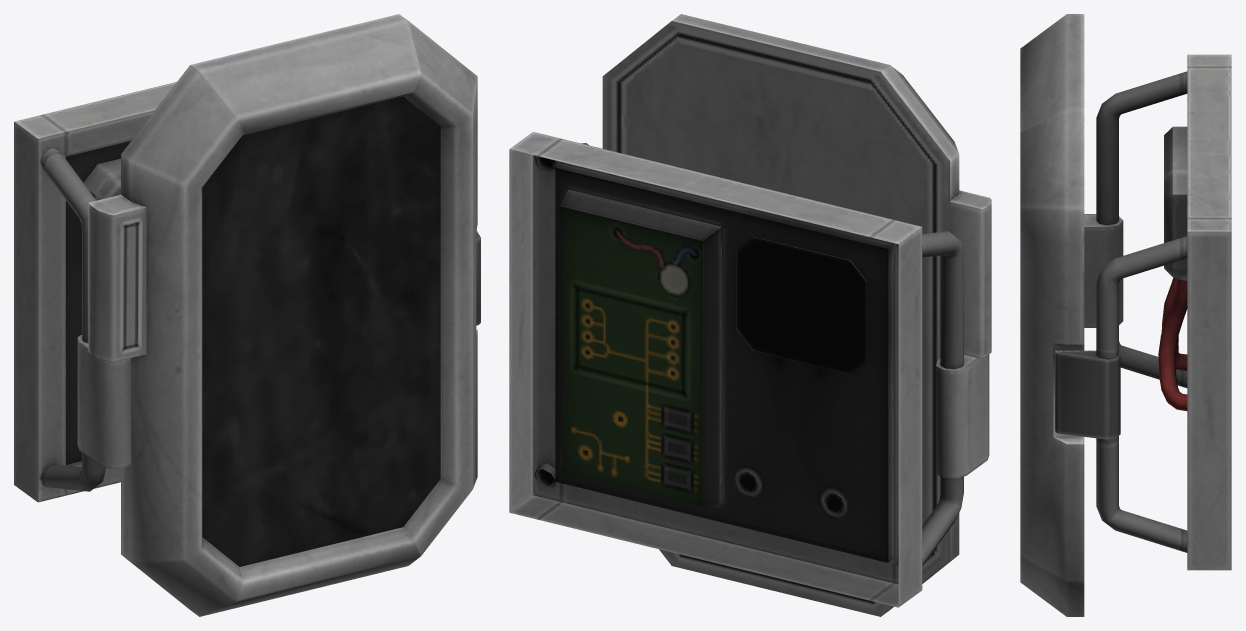
Rendered from theta_panel.dae.
3 views of the same model, side by side, from view 1: azimuth 30°, elevation 25°; view 2: azimuth 150°, elevation 25°; view 3: azimuth 270°, elevation 25° (orthographic). The views are drawn at different scales.
Visible parts, largest first — view 1: panel_rigid, panel_base; view 2: panel_base, panel_rigid; view 3: panel_base, panel_rigid.
Boxes of the visible parts, x1,y1,x2,y2 form: panel_rigid: (88, 14, 477, 616); panel_base: (14, 82, 480, 502); panel_base: (509, 132, 989, 607); panel_rigid: (602, 14, 991, 616); panel_base: (1055, 54, 1231, 570); panel_rigid: (1020, 14, 1084, 616).
Size of the model in its own units: 0.3508 by 0.4628 by 0.1748.
